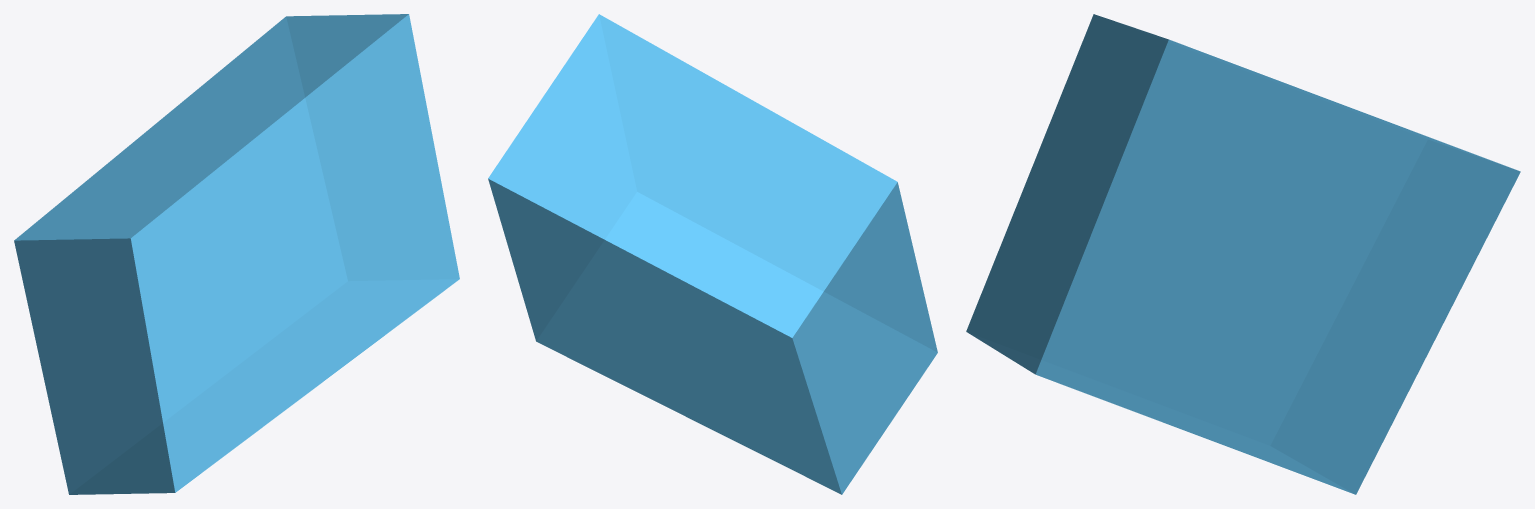
The model's file is Event_420604493_HErechit_39.fbx.
The picture shows the model from 3 angles, left to right: view 1: azimuth 30°, elevation 25°; view 2: azimuth 150°, elevation 25°; view 3: azimuth 270°, elevation 25°; orthographic projection. The views are drawn at different scales.
Visible parts, largest first — view 1: Model; view 2: Model; view 3: Model.
Part boxes in pixels (x1,y1,x2,y2): Model: [14, 14, 459, 494]; Model: [488, 14, 937, 494]; Model: [966, 14, 1520, 494].
Size of the model in its own units: 0.5959 by 0.7973 by 0.6474.
